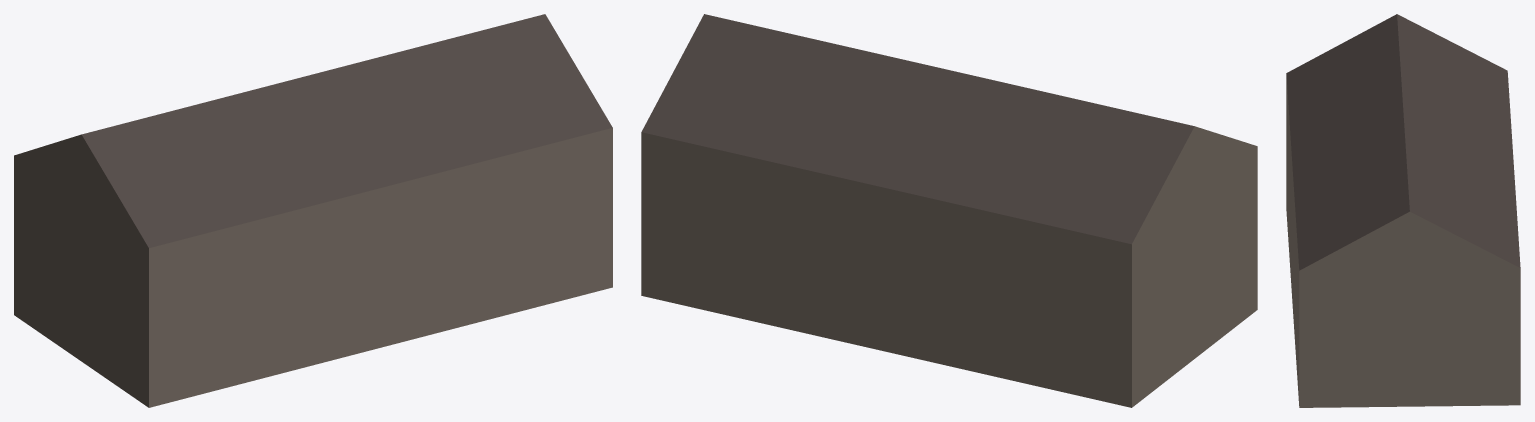
3 views of the same model, side by side, from view 1: azimuth 30°, elevation 25°; view 2: azimuth 150°, elevation 25°; view 3: azimuth 270°, elevation 25° (orthographic). The views are drawn at different scales.
Parts seen in each view (by area): view 1: HP-w858807422; view 2: HP-w858807422; view 3: HP-w858807422.
Part boxes in pixels (left/top/right/bottom): HP-w858807422: left=14, top=14, right=612, bottom=407; HP-w858807422: left=641, top=14, right=1257, bottom=407; HP-w858807422: left=1286, top=14, right=1520, bottom=407.
Size of the model in its own units: 18.77 by 8.53 by 9.28.
